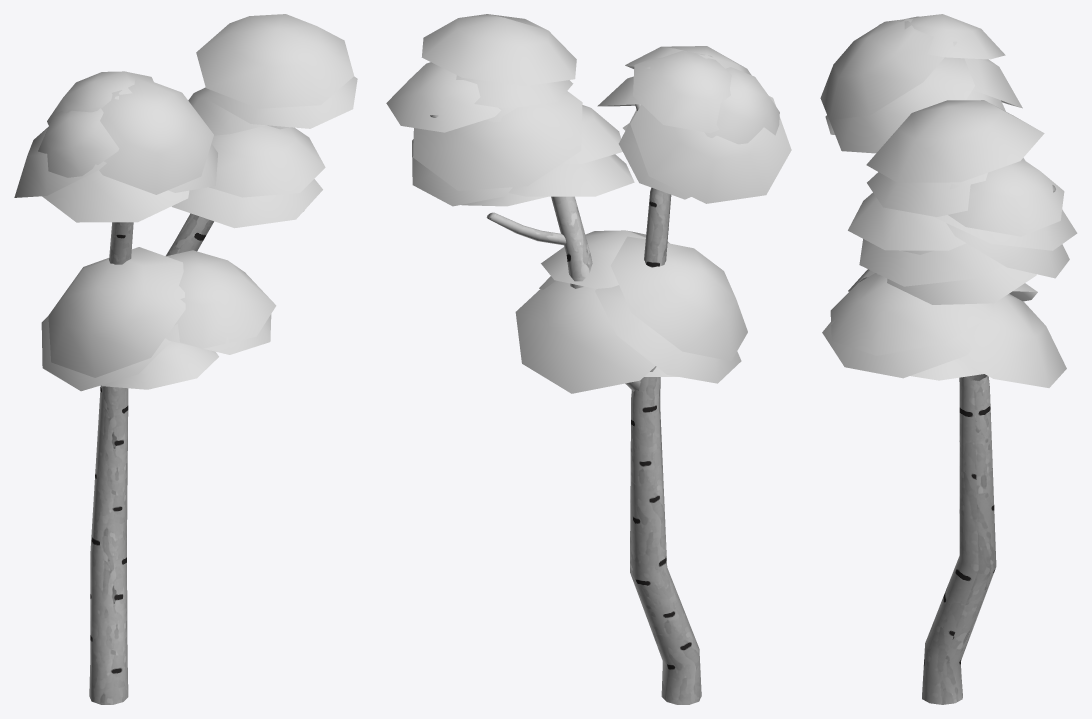
Rendered from Birch_2.glb.
3 renders of one model, left to right at view 1: azimuth 30°, elevation 25°; view 2: azimuth 150°, elevation 25°; view 3: azimuth 270°, elevation 25°, orthographic. The views are drawn at different scales.
Parts seen in each view (by area): view 1: Birch_2; view 2: Birch_2; view 3: Birch_2.
Boxes of the visible parts, box(x1,y1,x2,y2) form: Birch_2: box(14, 14, 357, 704); Birch_2: box(386, 14, 791, 704); Birch_2: box(820, 14, 1077, 704).
Size of the model in its own units: 5.11 by 8.94 by 3.06.
2 materials, 1 textured.
